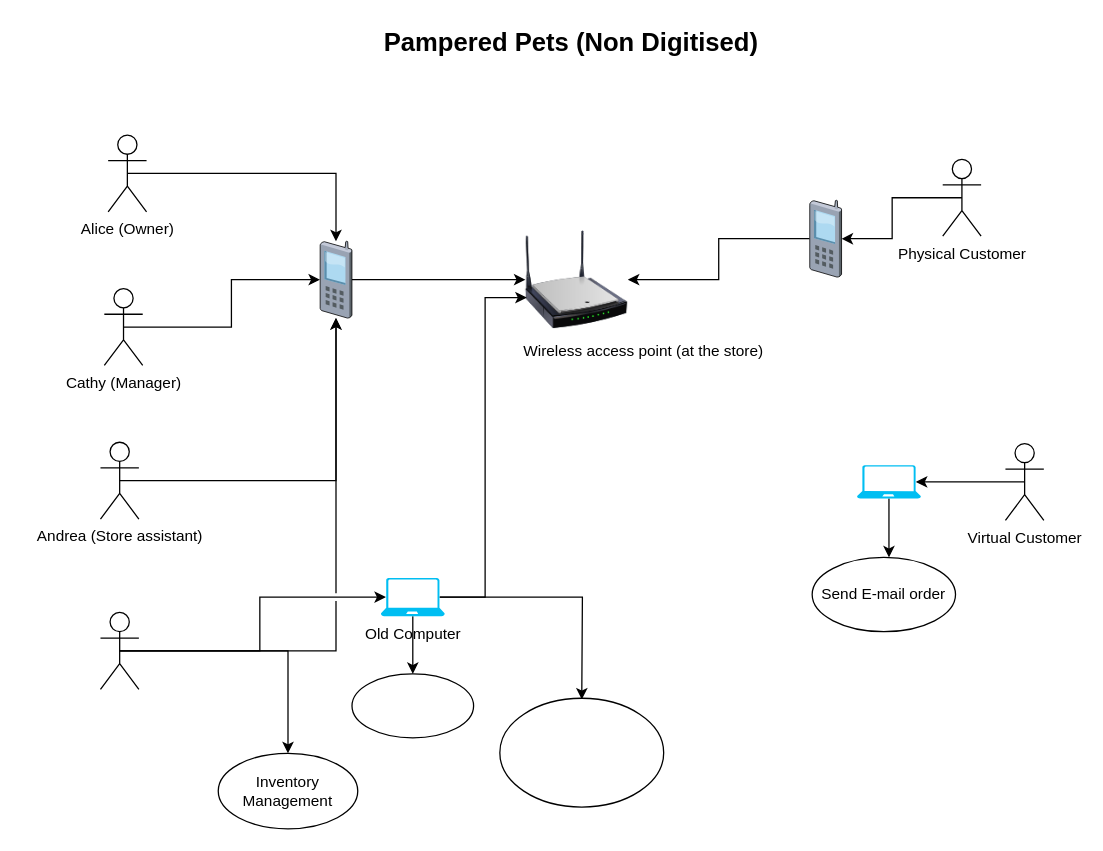
The diagram is 1103 pixels wide and 851 high, and some of its shapes have lost their labels. Here are the shapes that lost their labels. From the top down, the box of each, then its label:
(809, 200, 841, 276): Personal Phone
(99, 611, 139, 689): Harry (Warehouse Manager)
(351, 673, 474, 738): Submit VAT and Taxes
(499, 697, 664, 807): Send emails to customers when goods are ready to pick up
